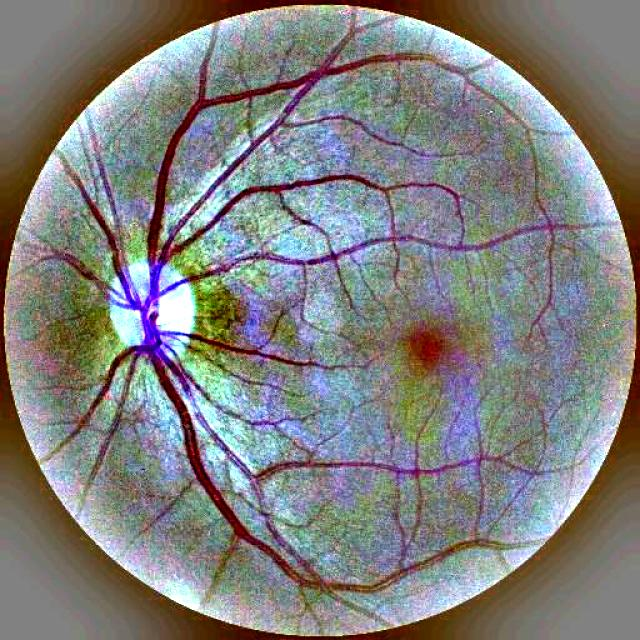Macula: (391, 323, 466, 389)
Nerves: (136, 64, 512, 610)
Optic Disk: (75, 256, 220, 376)
